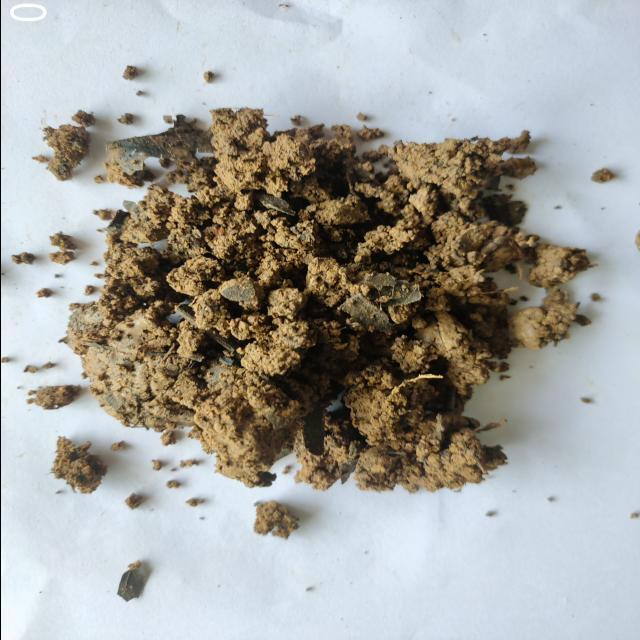soil: (164, 188, 450, 408)
